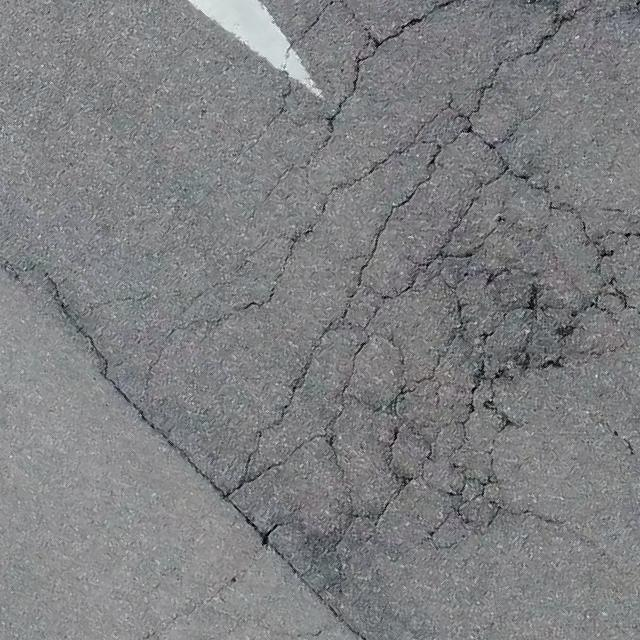GRIETA: (45, 275, 369, 639), (143, 576, 238, 639), (502, 506, 591, 541), (605, 421, 633, 454), (0, 261, 21, 282)
PIEL DE COCODRILO: (71, 0, 639, 598)
